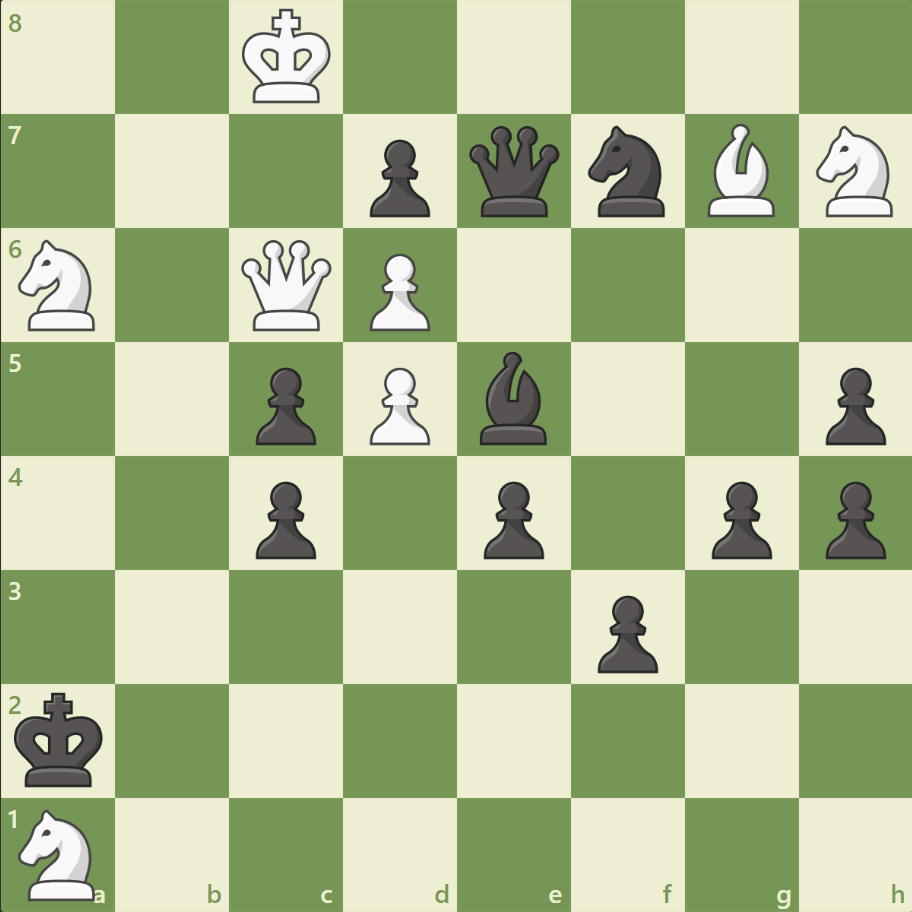B: (698, 120, 782, 222)
K: (238, 4, 338, 112)
N: (11, 234, 108, 337), (806, 121, 903, 223), (11, 802, 108, 904)
P: (361, 246, 435, 337), (361, 359, 435, 450)
Q: (237, 236, 336, 335)
b: (471, 347, 555, 449)
k: (11, 685, 111, 793)
n: (579, 121, 676, 223)
p: (247, 359, 322, 450), (247, 473, 322, 564), (474, 473, 549, 564), (701, 473, 776, 564), (361, 132, 435, 223), (815, 359, 889, 450), (815, 473, 889, 564), (588, 586, 662, 677)
q: (464, 122, 563, 222)
